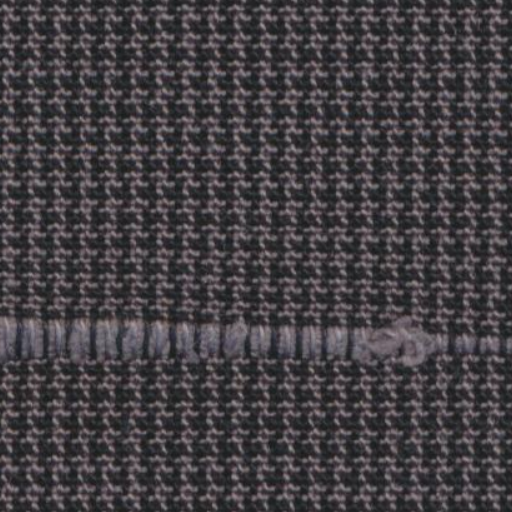DaiSha: (17, 295, 500, 378)
